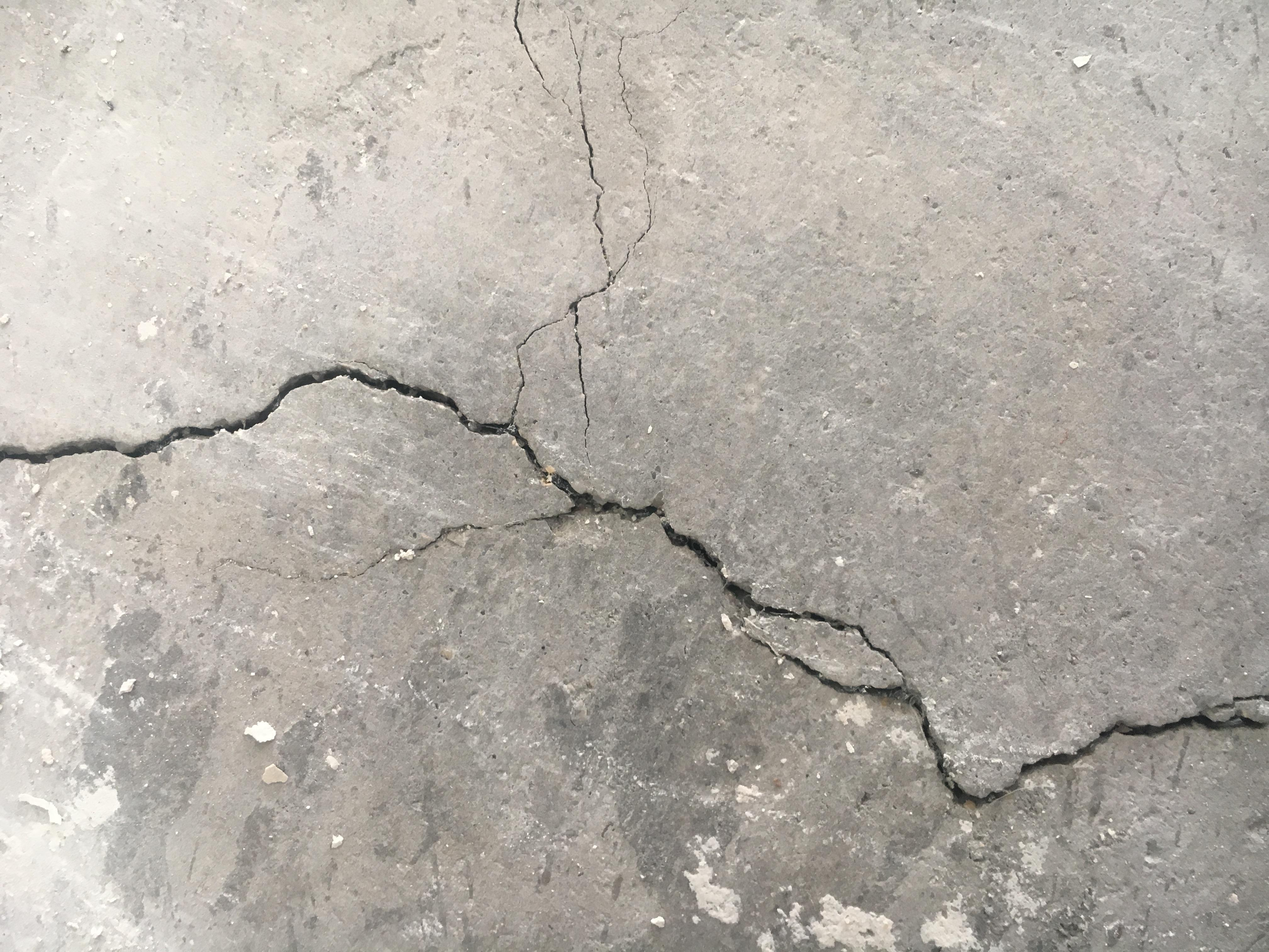Horizontal Settlement Crack: (1, 335, 1269, 838)
